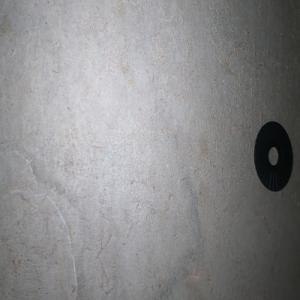Washer: (253, 120, 293, 191)
